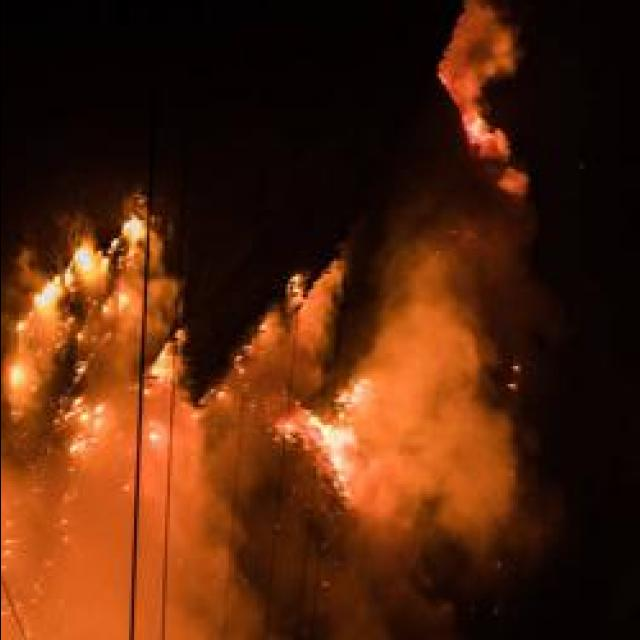fire: (19, 234, 120, 312), (306, 414, 360, 478), (64, 394, 97, 458)
smoke: (331, 413, 540, 563), (380, 195, 544, 358), (51, 509, 123, 640), (146, 556, 256, 640), (162, 407, 228, 542), (443, 5, 513, 110)
